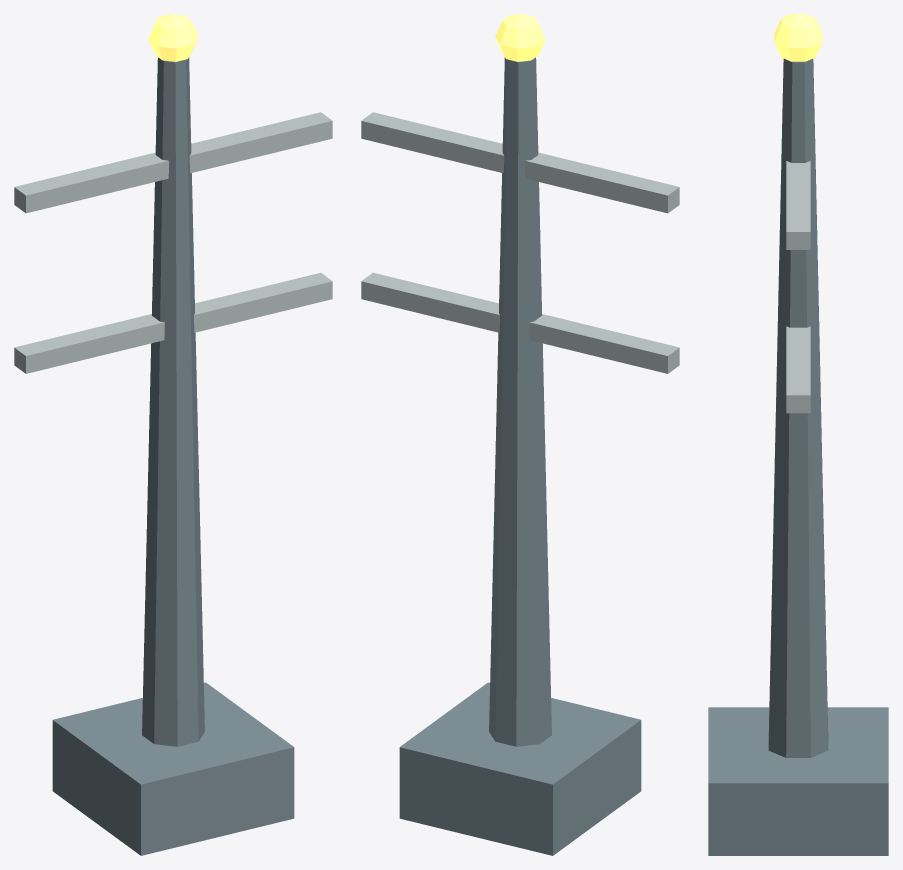
Rendered from Hab_Sensor_Mast.glb.
3 views of the same model, side by side, from view 1: azimuth 30°, elevation 25°; view 2: azimuth 150°, elevation 25°; view 3: azimuth 270°, elevation 25° (orthographic).
Parts seen in each view (by area): view 1: Hab_Sensor_Mast; view 2: Hab_Sensor_Mast; view 3: Hab_Sensor_Mast.
Boxes of the visible parts, box(x1,y1,x2,y2) form: Hab_Sensor_Mast: box(14, 14, 332, 855); Hab_Sensor_Mast: box(361, 14, 679, 855); Hab_Sensor_Mast: box(708, 14, 888, 855).
Bounding box in the file's own units: 0.9 × 2.22 × 0.45.
